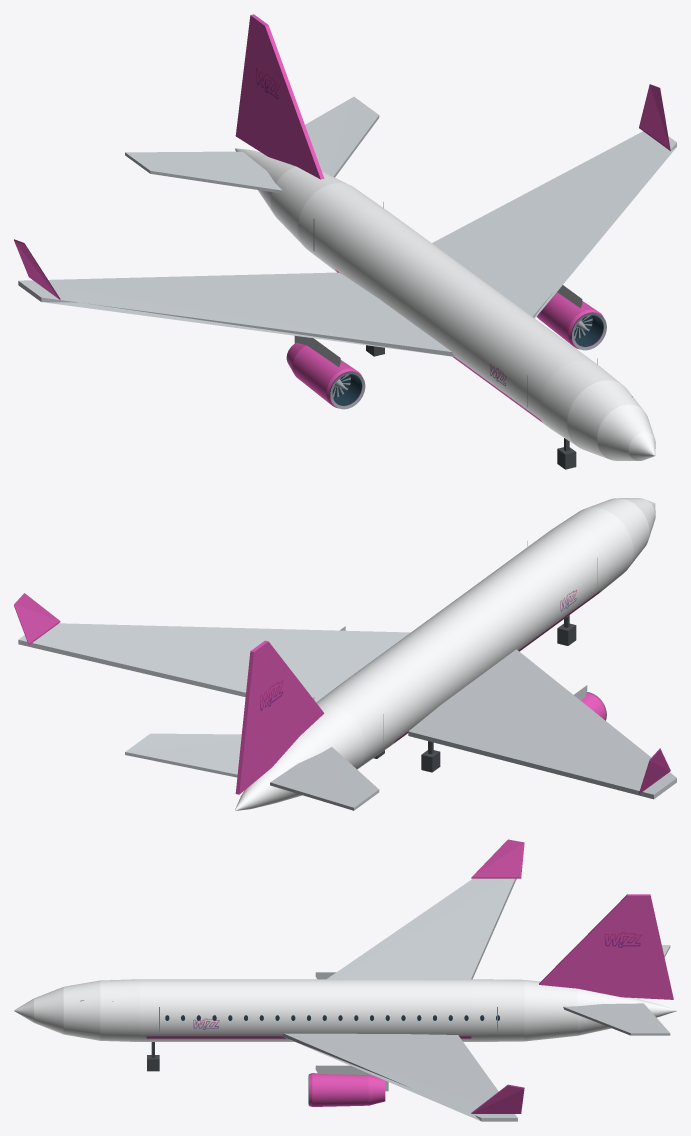
File: b737-WZZ-v3.gltf
The picture shows the model from 3 angles, top to bottom: view 1: azimuth 30°, elevation 25°; view 2: azimuth 150°, elevation 25°; view 3: azimuth 270°, elevation 25°; orthographic projection. The views are drawn at different scales.
Parts seen in each view (by area): view 1: object 1; view 2: object 1, Gear; view 3: object 1.
Part boxes in pixels (left/top/right/bottom): object 1: left=14, top=14, right=676, bottom=460; object 1: left=14, top=498, right=676, bottom=810; Gear: left=373, top=615, right=576, bottom=772; object 1: left=14, top=839, right=676, bottom=1121.
Size of the model in its own units: 35 by 11.6 by 40.
8 materials, 1 textured.
